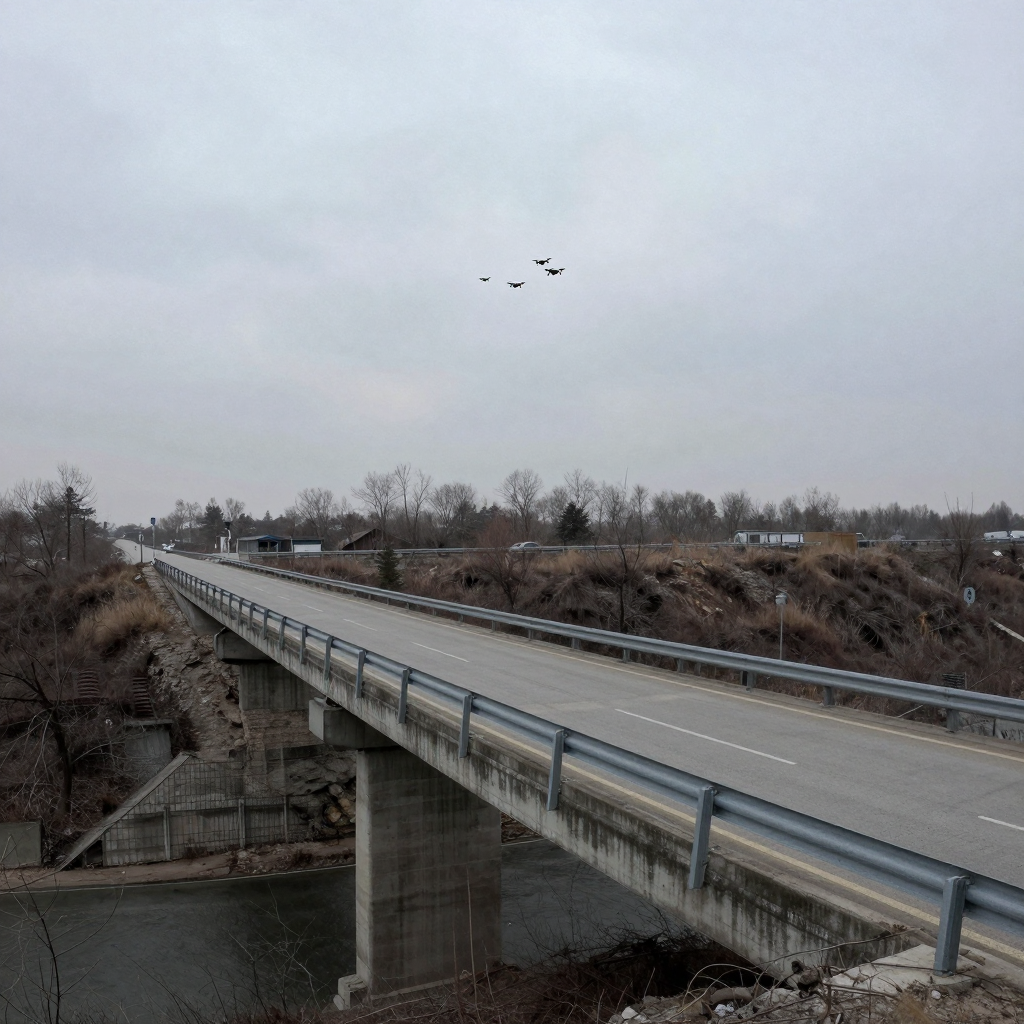drone: (532, 257, 552, 267), (544, 268, 565, 276), (512, 282, 525, 288), (479, 277, 491, 282), (507, 281, 512, 288)
